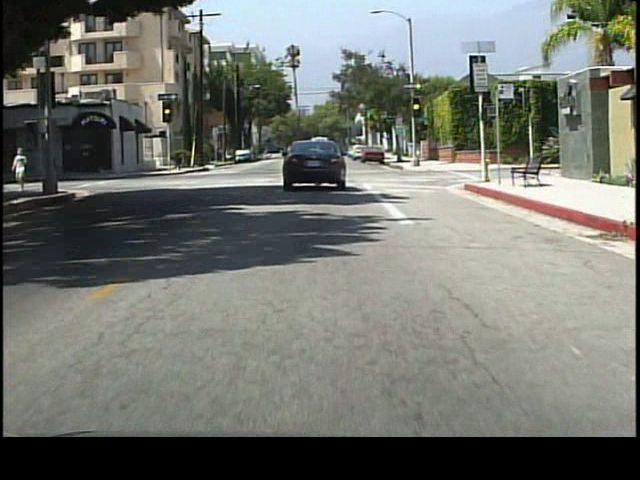person: (13, 145, 32, 193)
